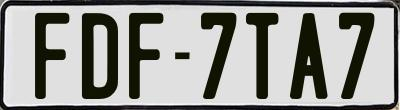7: (336, 11, 373, 100), (199, 11, 235, 99)
A: (287, 12, 325, 98)
D: (80, 13, 118, 105)
F: (35, 13, 74, 101), (129, 11, 165, 102)
T: (243, 10, 276, 96)
